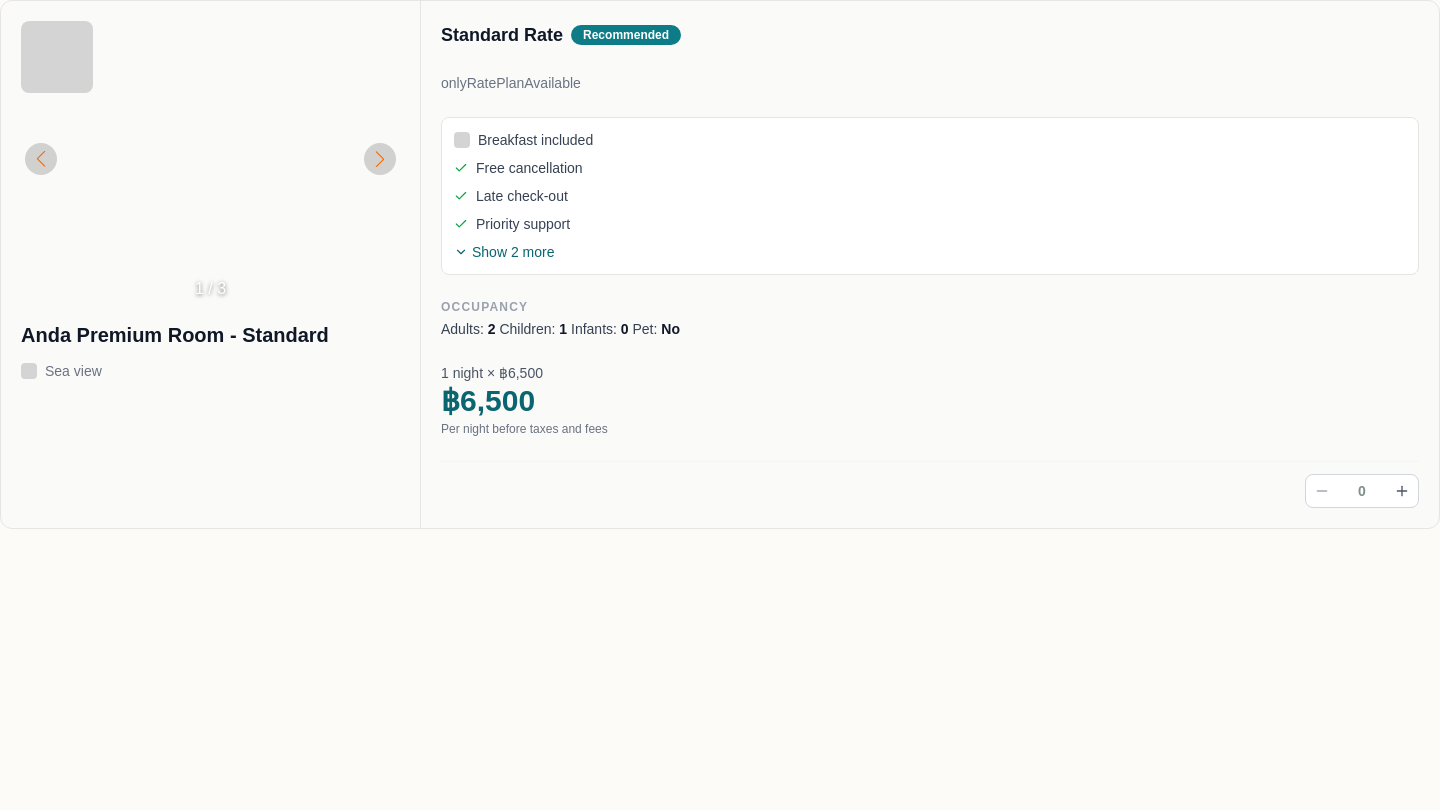
Test: RoomClassCard › opens all rate plan features in a modal when the list is longer than the preview
Expected: the text "Airport transfer" is not shown
Expected: the text "Welcome drink" is not shown
Click the button "Show 2 more" at (504, 252), box [454, 242, 554, 262]
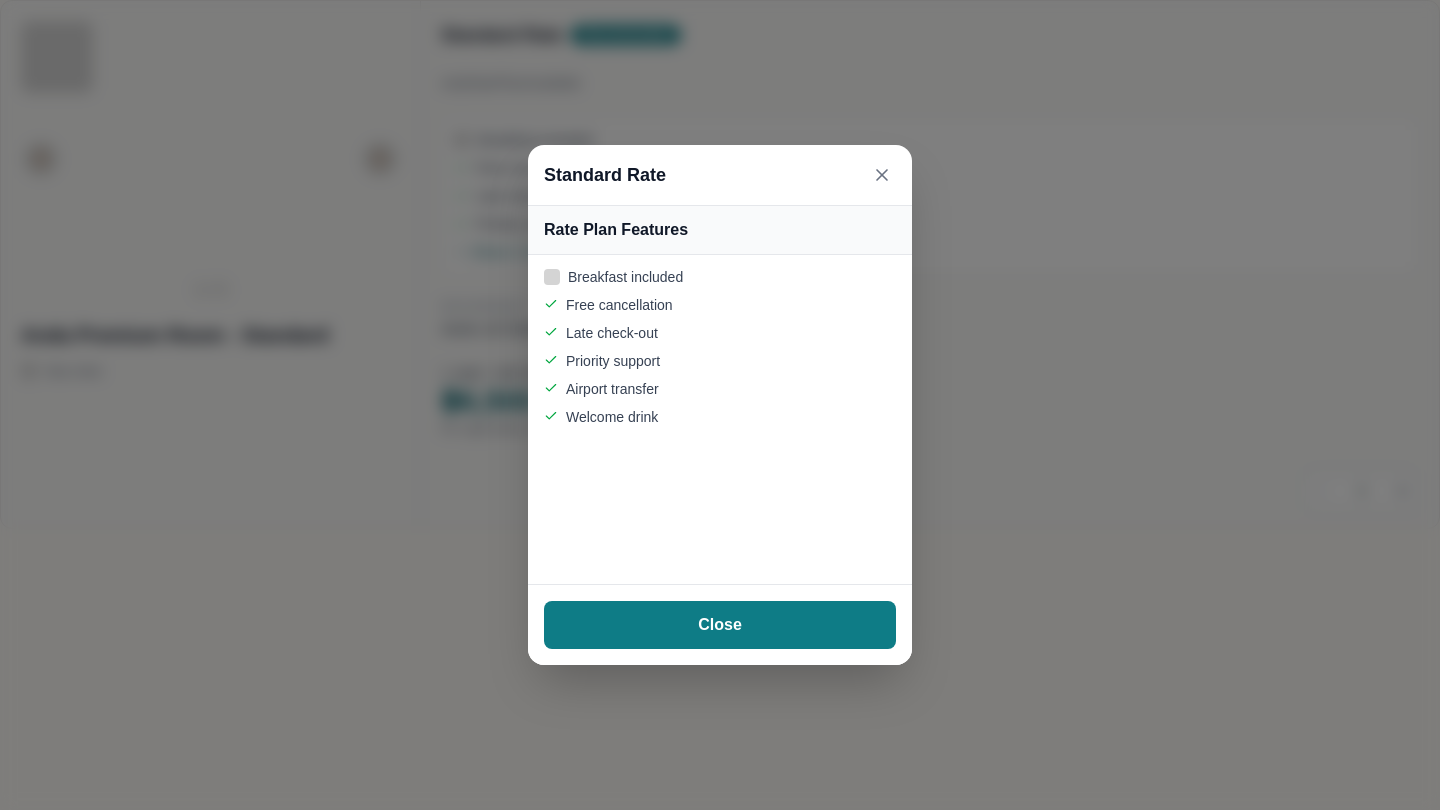
Expected: the dialog is shown, [528, 145, 912, 665]
Expected: the text "Rate Plan Features" is shown, [544, 221, 688, 238]
Expected: the text "Priority support" is shown, [566, 351, 660, 371]
